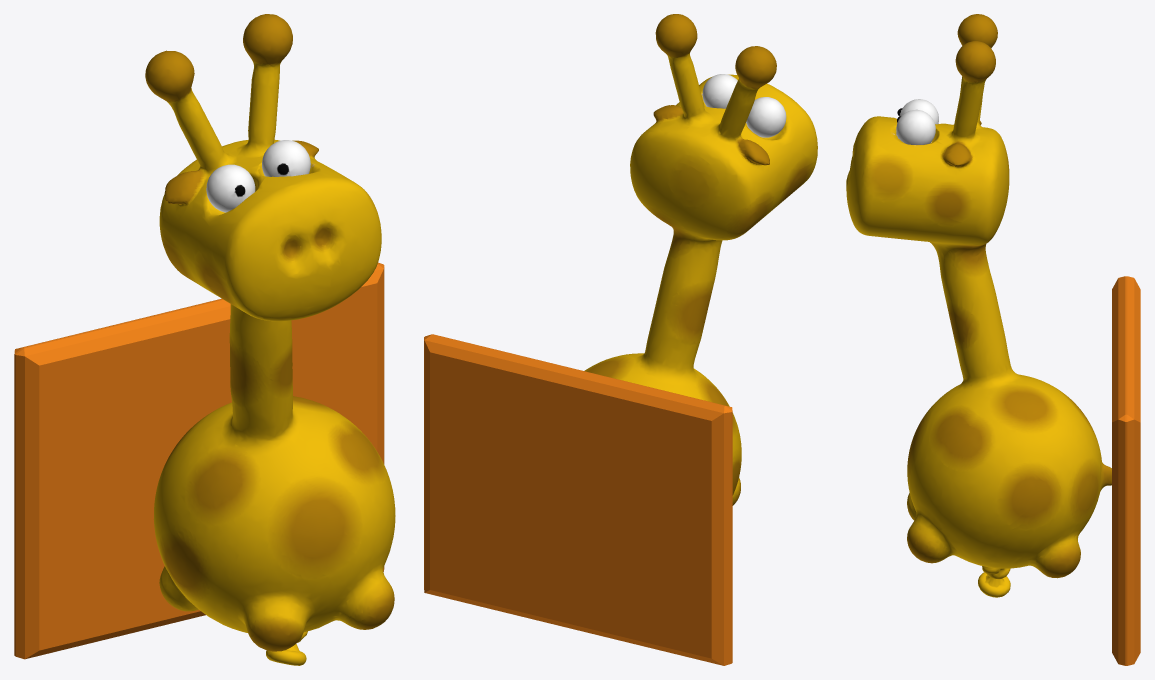
Rendered from giraffe.glb.
3 views of the same model, side by side, from view 1: azimuth 30°, elevation 25°; view 2: azimuth 150°, elevation 25°; view 3: azimuth 270°, elevation 25° (orthographic). The views are drawn at different scales.
Parts seen in each view (by area): view 1: Object_2, QnSlab; view 2: QnSlab, Object_2; view 3: Object_2, QnSlab.
Part boxes in pixels (x1,y1,x2,y2): Object_2: (145, 14, 395, 665); QnSlab: (14, 262, 384, 659); QnSlab: (424, 334, 732, 665); Object_2: (584, 14, 817, 505); Object_2: (846, 14, 1111, 597); QnSlab: (1112, 276, 1140, 665).
Bounding box in the file's own units: 0.4447 × 0.7769 × 0.3806.
